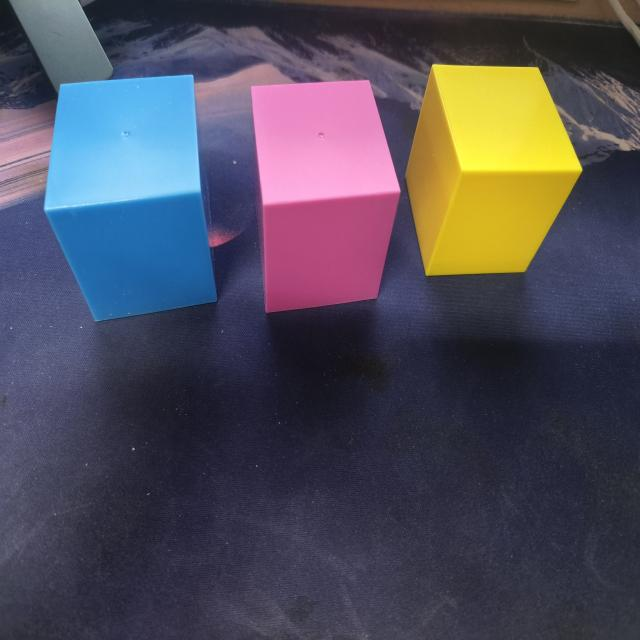blue: (44, 75, 217, 324)
pink: (249, 80, 401, 315)
yellow: (407, 63, 583, 280)
